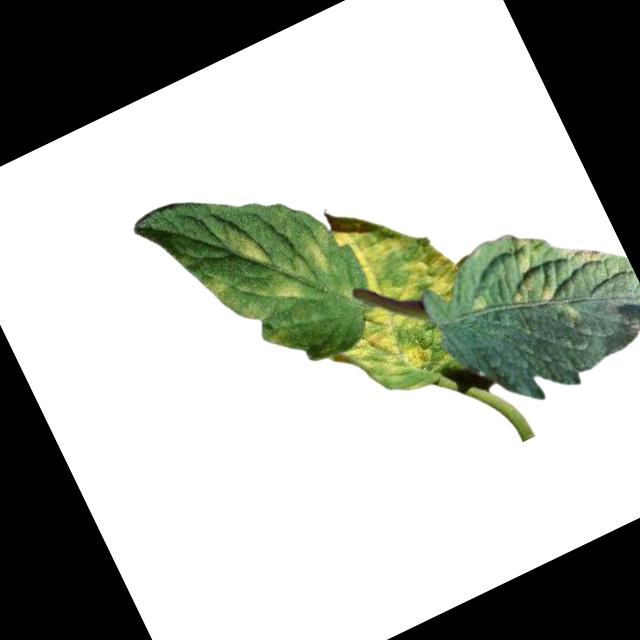Leaf_Mold: (320, 172, 470, 338), (322, 284, 464, 416), (487, 205, 624, 341), (246, 224, 350, 314), (223, 217, 273, 275), (198, 263, 243, 305)
